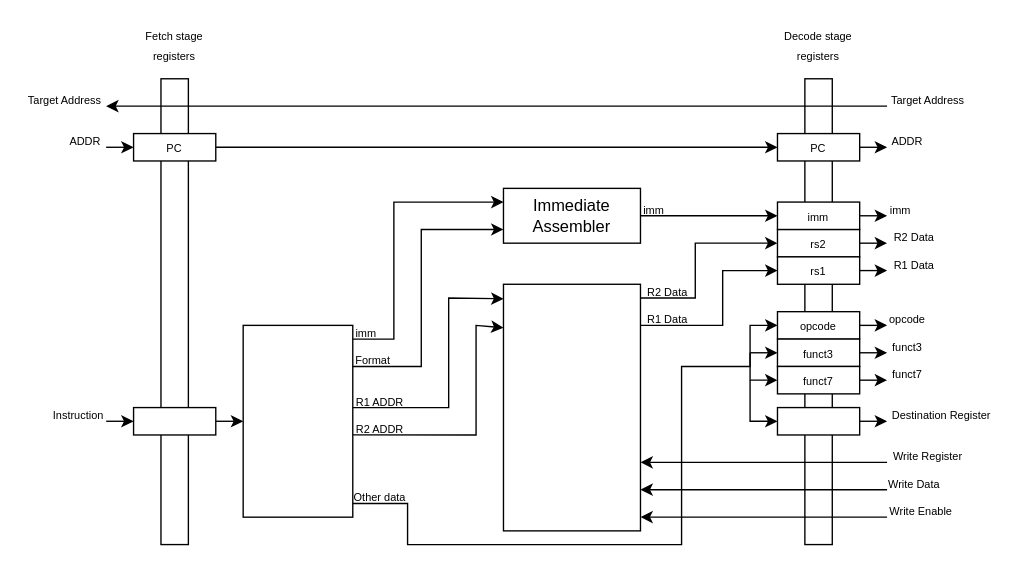
This 1019x580 diagram has some shape labels left out. The shapes that lost their labels are listed below. From the top down, each one's centre as x and y in pixels, then its label:
(x=174, y=420): Instruction Register
(x=297, y=420): Instruction Decoder
(x=571, y=407): Register File
(x=818, y=420): rd
